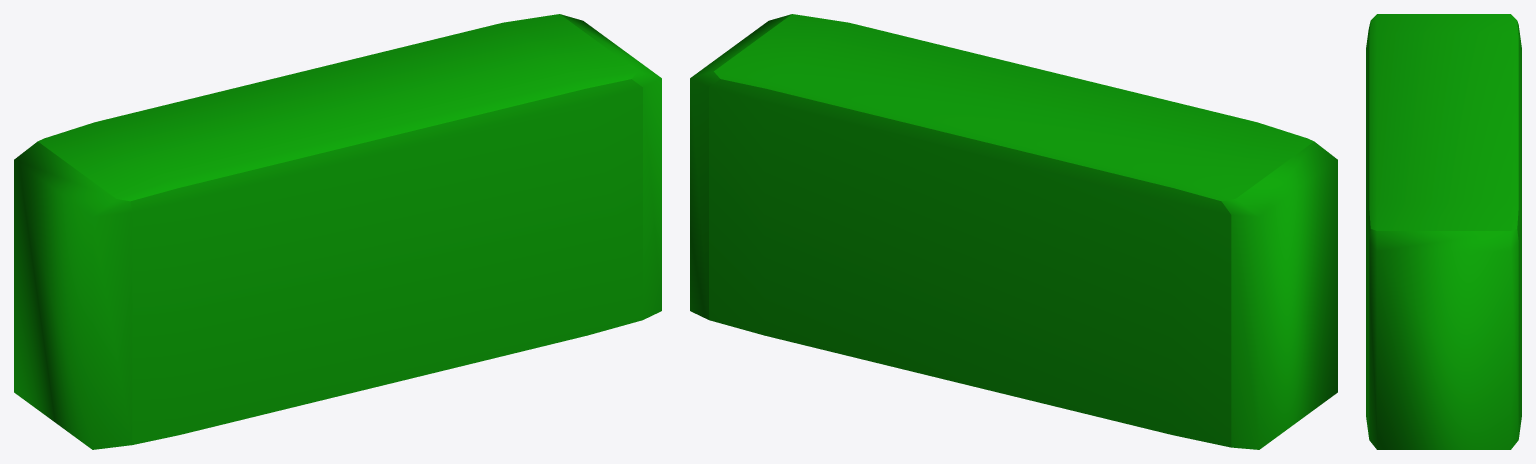
File: Arbusto 2.fbx
3 renders of one model, left to right at view 1: azimuth 30°, elevation 25°; view 2: azimuth 150°, elevation 25°; view 3: azimuth 270°, elevation 25°, orthographic. The views are drawn at different scales.
Parts seen in each view (by area): view 1: Cube.065; view 2: Cube.065; view 3: Cube.065.
Boxes of the visible parts, x1,y1,x2,y2 form: Cube.065: [14, 14, 661, 449]; Cube.065: [690, 14, 1337, 449]; Cube.065: [1366, 14, 1521, 449].
Size of the model in its own units: 192 by 80.86 by 53.51.
